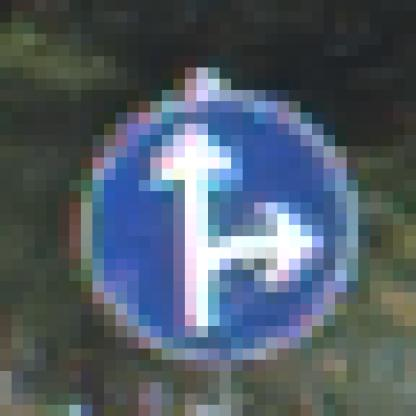Straight or Right: (71, 68, 360, 361)
